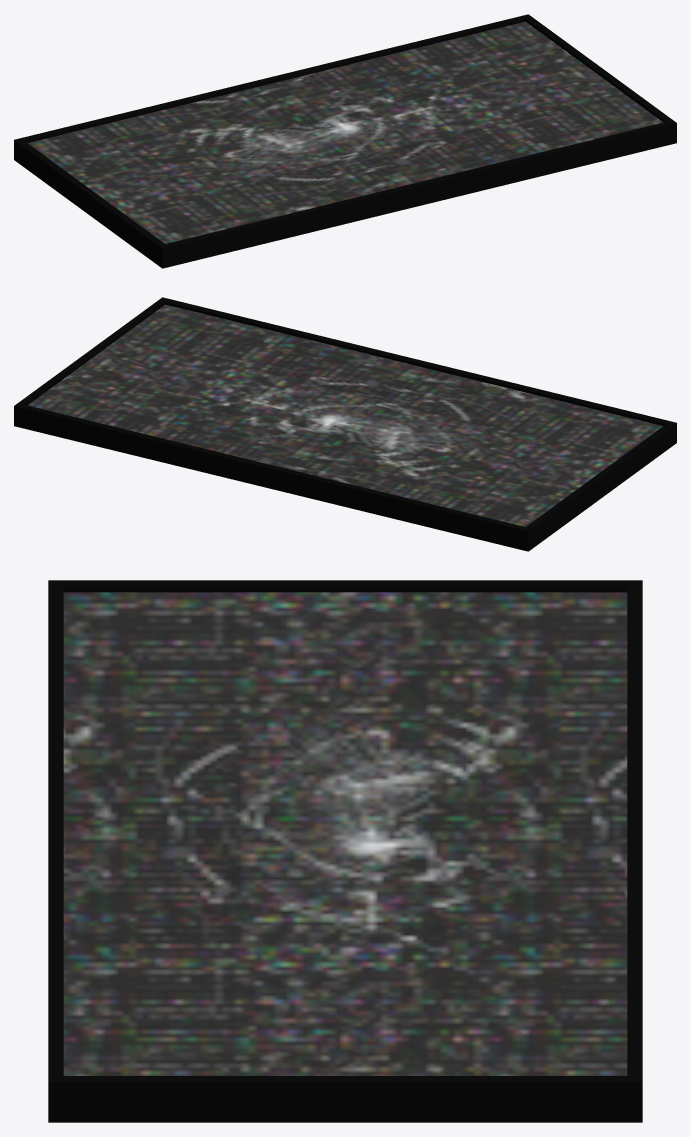
The model's file is KırıkTelevizyon.fbx.
The picture shows the model from 3 angles, top to bottom: view 1: azimuth 30°, elevation 25°; view 2: azimuth 150°, elevation 25°; view 3: azimuth 270°, elevation 25°; orthographic projection. The views are drawn at different scales.
Parts seen in each view (by area): view 1: Cube.032, Cube.031; view 2: Cube.032, Cube.031; view 3: Cube.032, Cube.031.
Boxes of the visible parts, <box> form: Cube.032: <box>27,21,663,243</box>; Cube.031: <box>14,14,676,268</box>; Cube.032: <box>27,304,663,526</box>; Cube.031: <box>14,297,676,551</box>; Cube.032: <box>63,592,627,1075</box>; Cube.031: <box>48,580,642,1122</box>.
Size of the model in its own units: 400 by 15 by 200.
2 materials, 1 textured.
